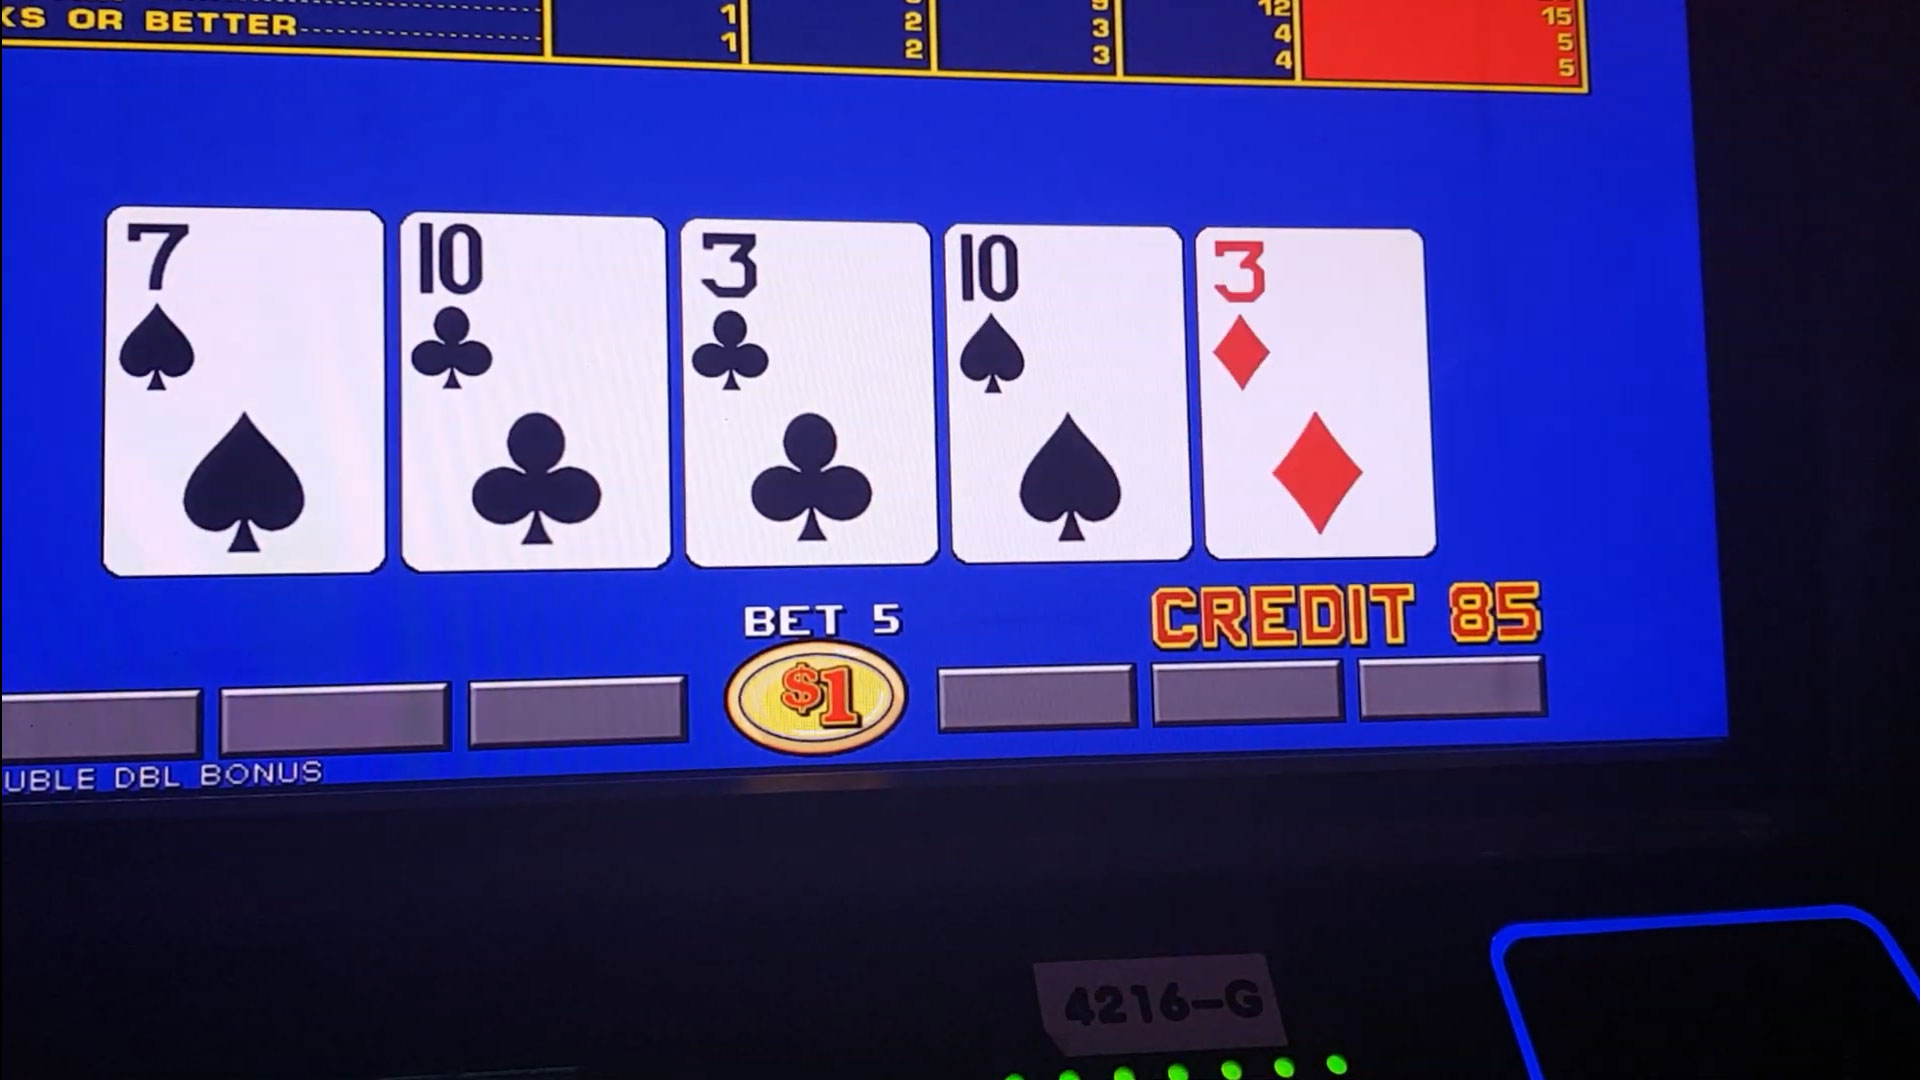C3: (688, 225, 924, 400)
CT: (407, 215, 654, 407)
D3: (1207, 235, 1416, 396)
S7: (113, 215, 376, 398)
ST: (952, 228, 1179, 400)
